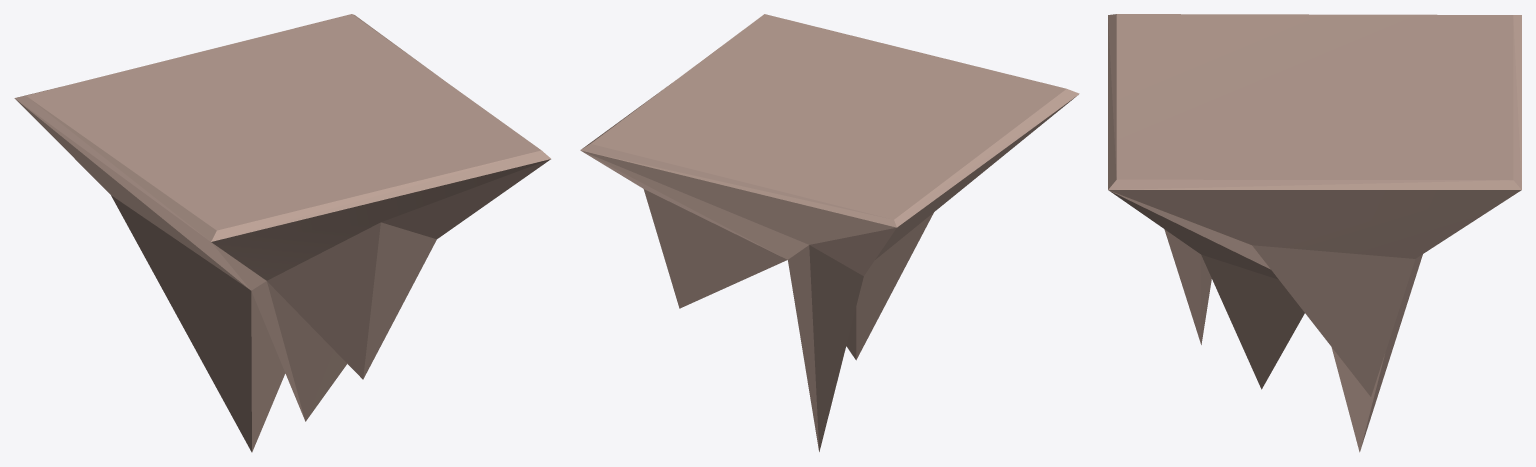
The picture shows the model from 3 angles, left to right: view 1: azimuth 30°, elevation 25°; view 2: azimuth 150°, elevation 25°; view 3: azimuth 270°, elevation 25°; orthographic projection. The views are drawn at different scales.
Visible parts, largest first — view 1: mesh1926919455; view 2: mesh1926919455; view 3: mesh1926919455.
Part boxes in pixels (bbox=[...]): mesh1926919455: bbox=[14, 14, 550, 452]; mesh1926919455: bbox=[580, 14, 1079, 451]; mesh1926919455: bbox=[1108, 14, 1521, 452].
Bounding box in the file's own units: 6.09 × 5.89 × 6.09.
